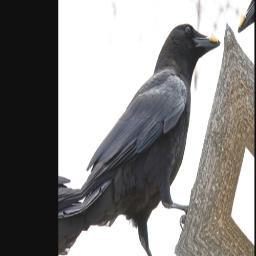Crow: (67, 1, 246, 256)
